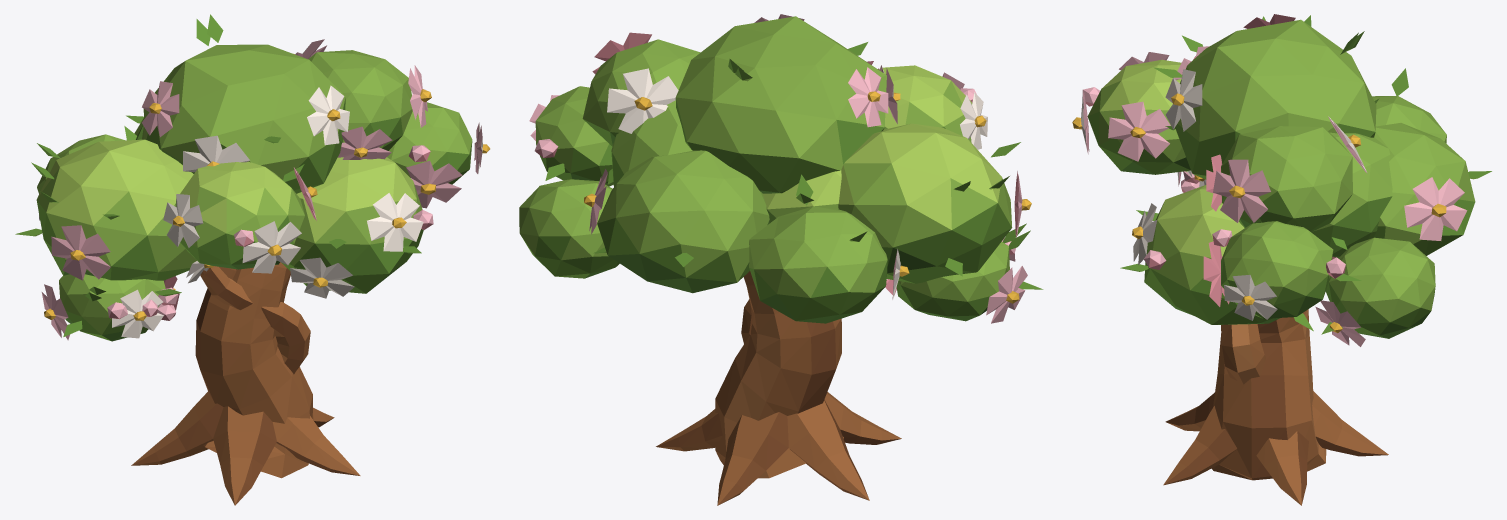
File: FMS_Tree_Apple_Blossom.fbx
The picture shows the model from 3 angles, left to right: view 1: azimuth 30°, elevation 25°; view 2: azimuth 150°, elevation 25°; view 3: azimuth 270°, elevation 25°; orthographic projection. The views are drawn at different scales.
Visible parts, largest first — view 1: FMS_Tree_Apple_Blossom; view 2: FMS_Tree_Apple_Blossom; view 3: FMS_Tree_Apple_Blossom.
Part boxes in pixels (left/top/right/bottom): FMS_Tree_Apple_Blossom: left=15, top=14, right=490, bottom=505; FMS_Tree_Apple_Blossom: left=519, top=14, right=1043, bottom=505; FMS_Tree_Apple_Blossom: left=1072, top=14, right=1491, bottom=505.
Bounding box in the file's own units: 4.58 × 3.98 × 3.57.
